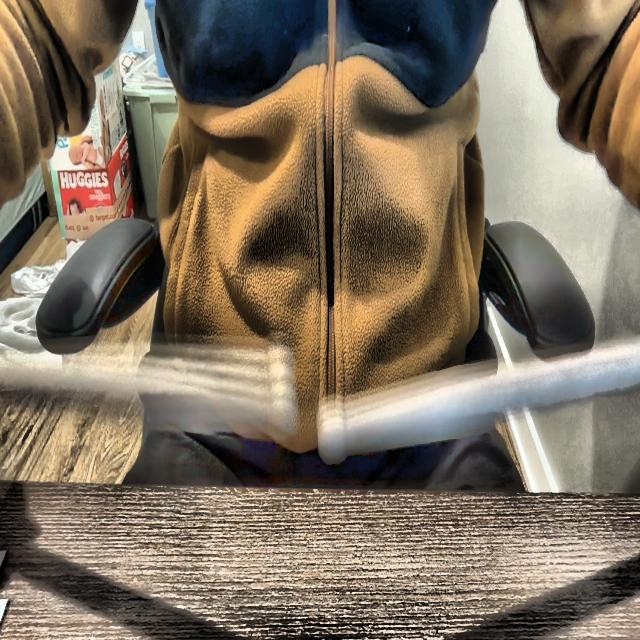Drumstick-Heads: (266, 325, 302, 430), (318, 398, 349, 462)
